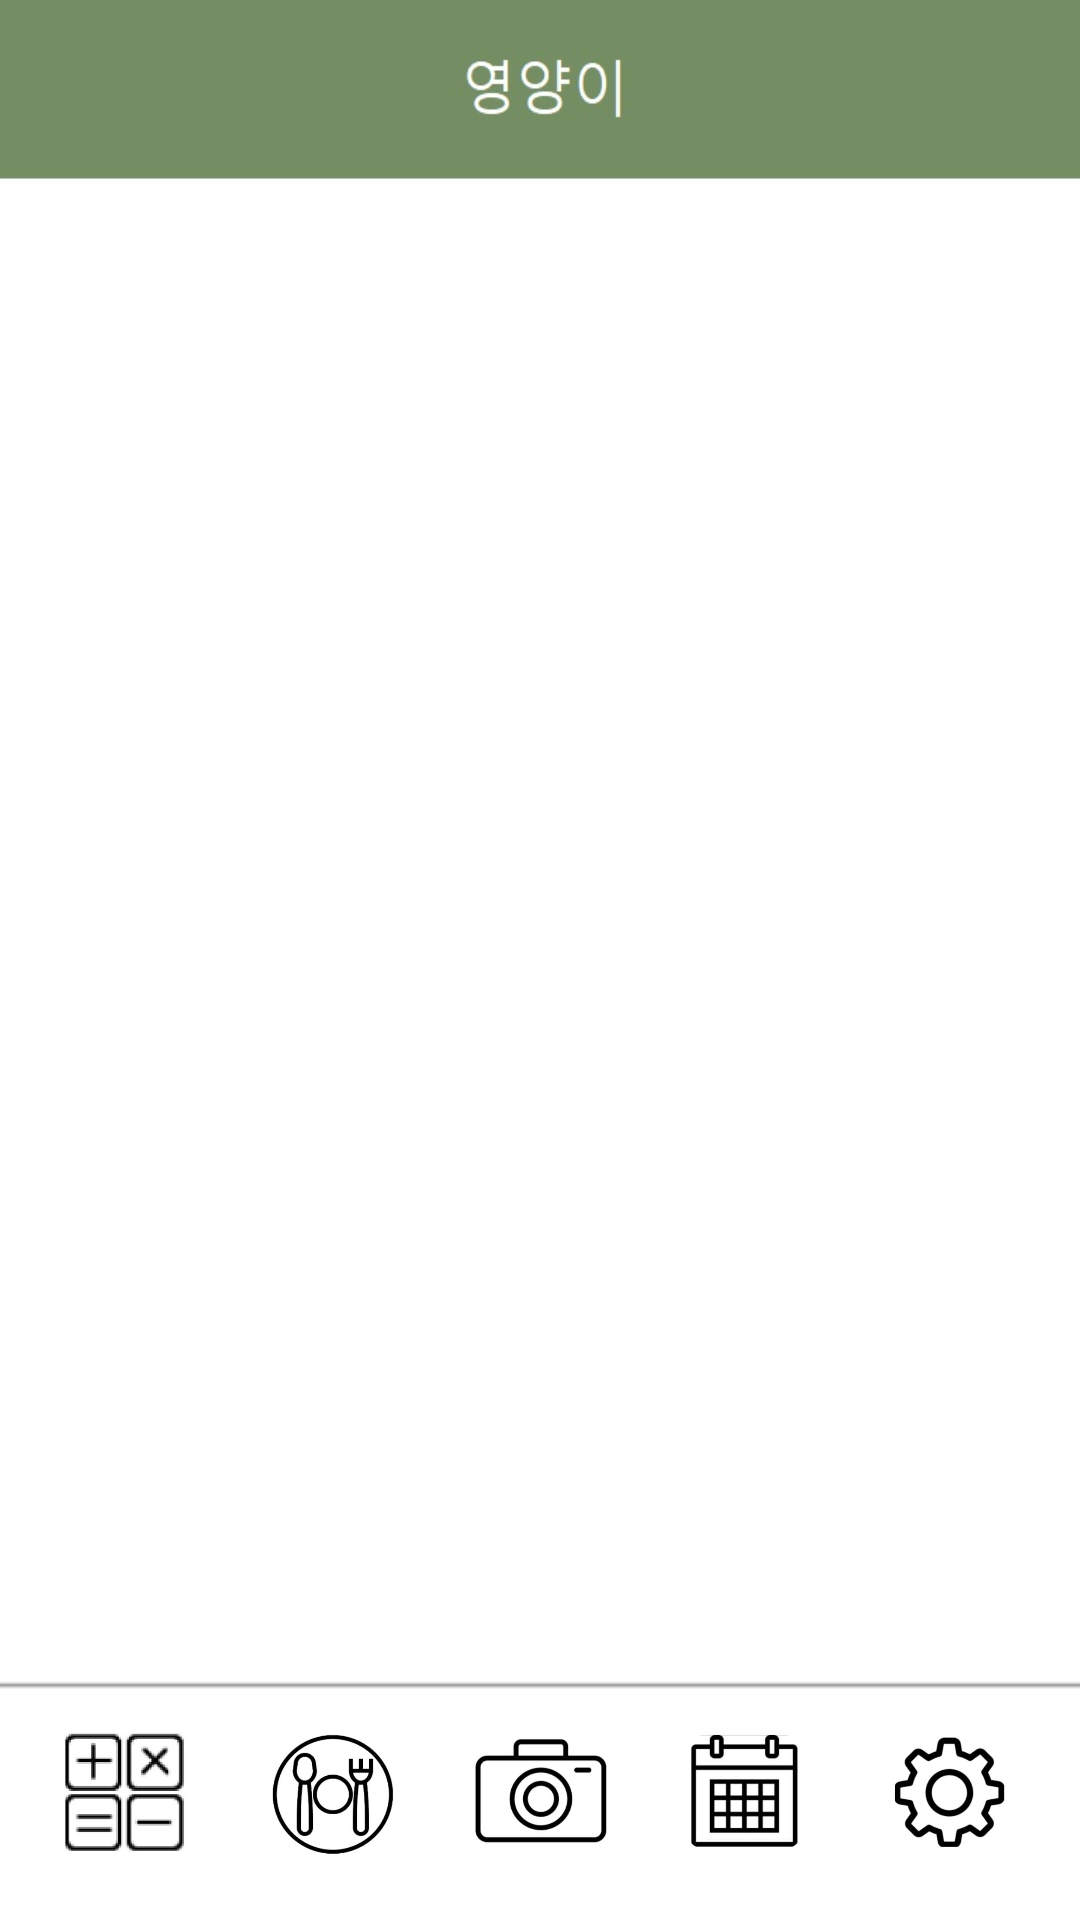

Point at icon controls on the screen. Image size 1080x1920, points as (x,y).
calculate: (124,1792)
calendar: (744,1791)
camera: (541,1791)
diet: (332,1794)
settings: (950,1792)
